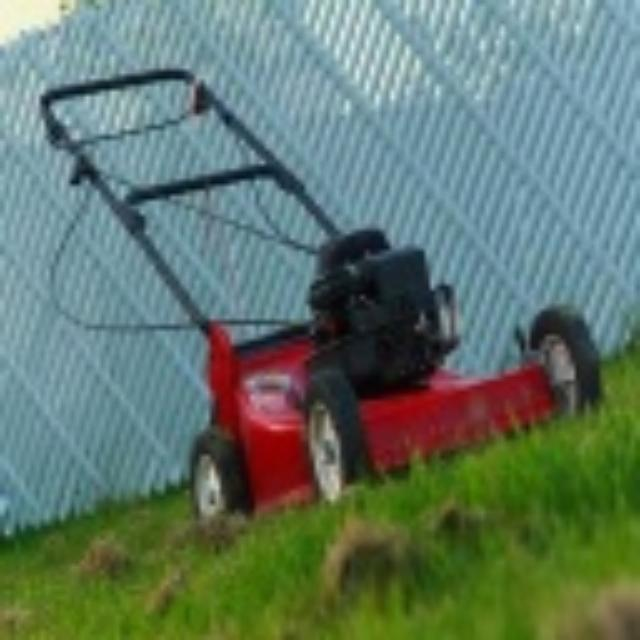Rotary-Mower: (31, 59, 606, 524)
